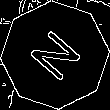N_SE: (23, 23, 87, 87)
